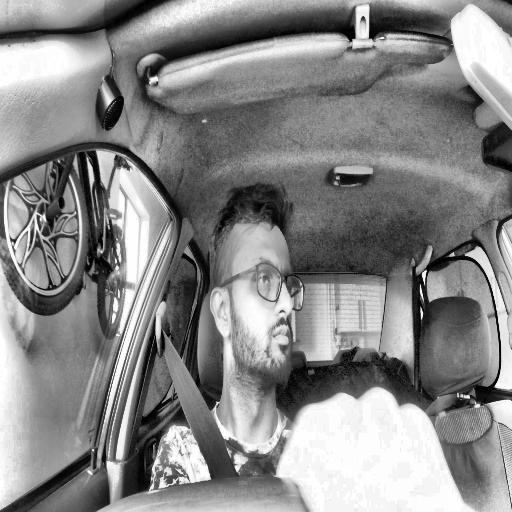awake: (209, 183, 306, 393)
